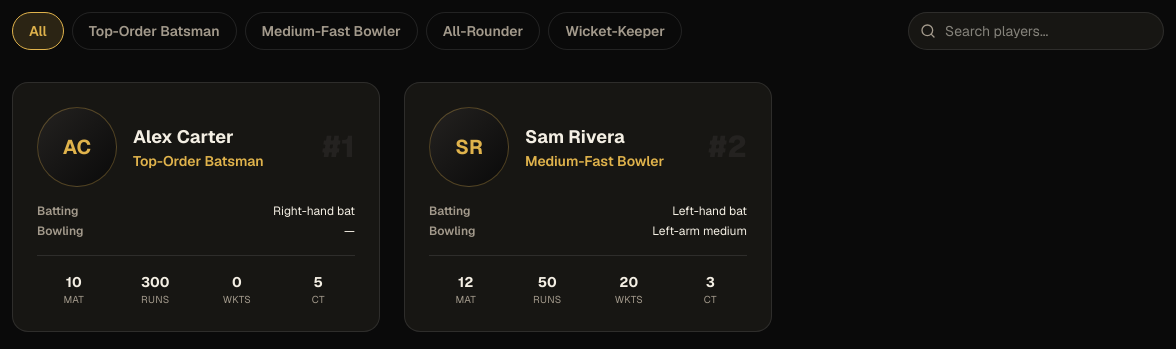
Test: SquadExplorer › filters players by search query
The width and height of the screenshot is (1176, 349).
Type "alex" into the search field with placeholder "Search players...".
click(1036, 31); type("alex")  # box 908,12 -> 1164,50
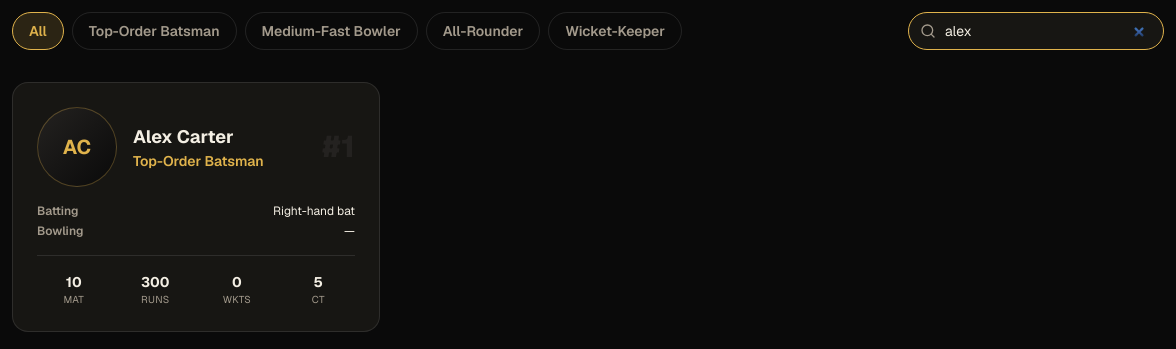
Expected: the text "Alex Carter" is shown, 133,125 -> 234,148
Now the text "Sam Rivera" is gone
